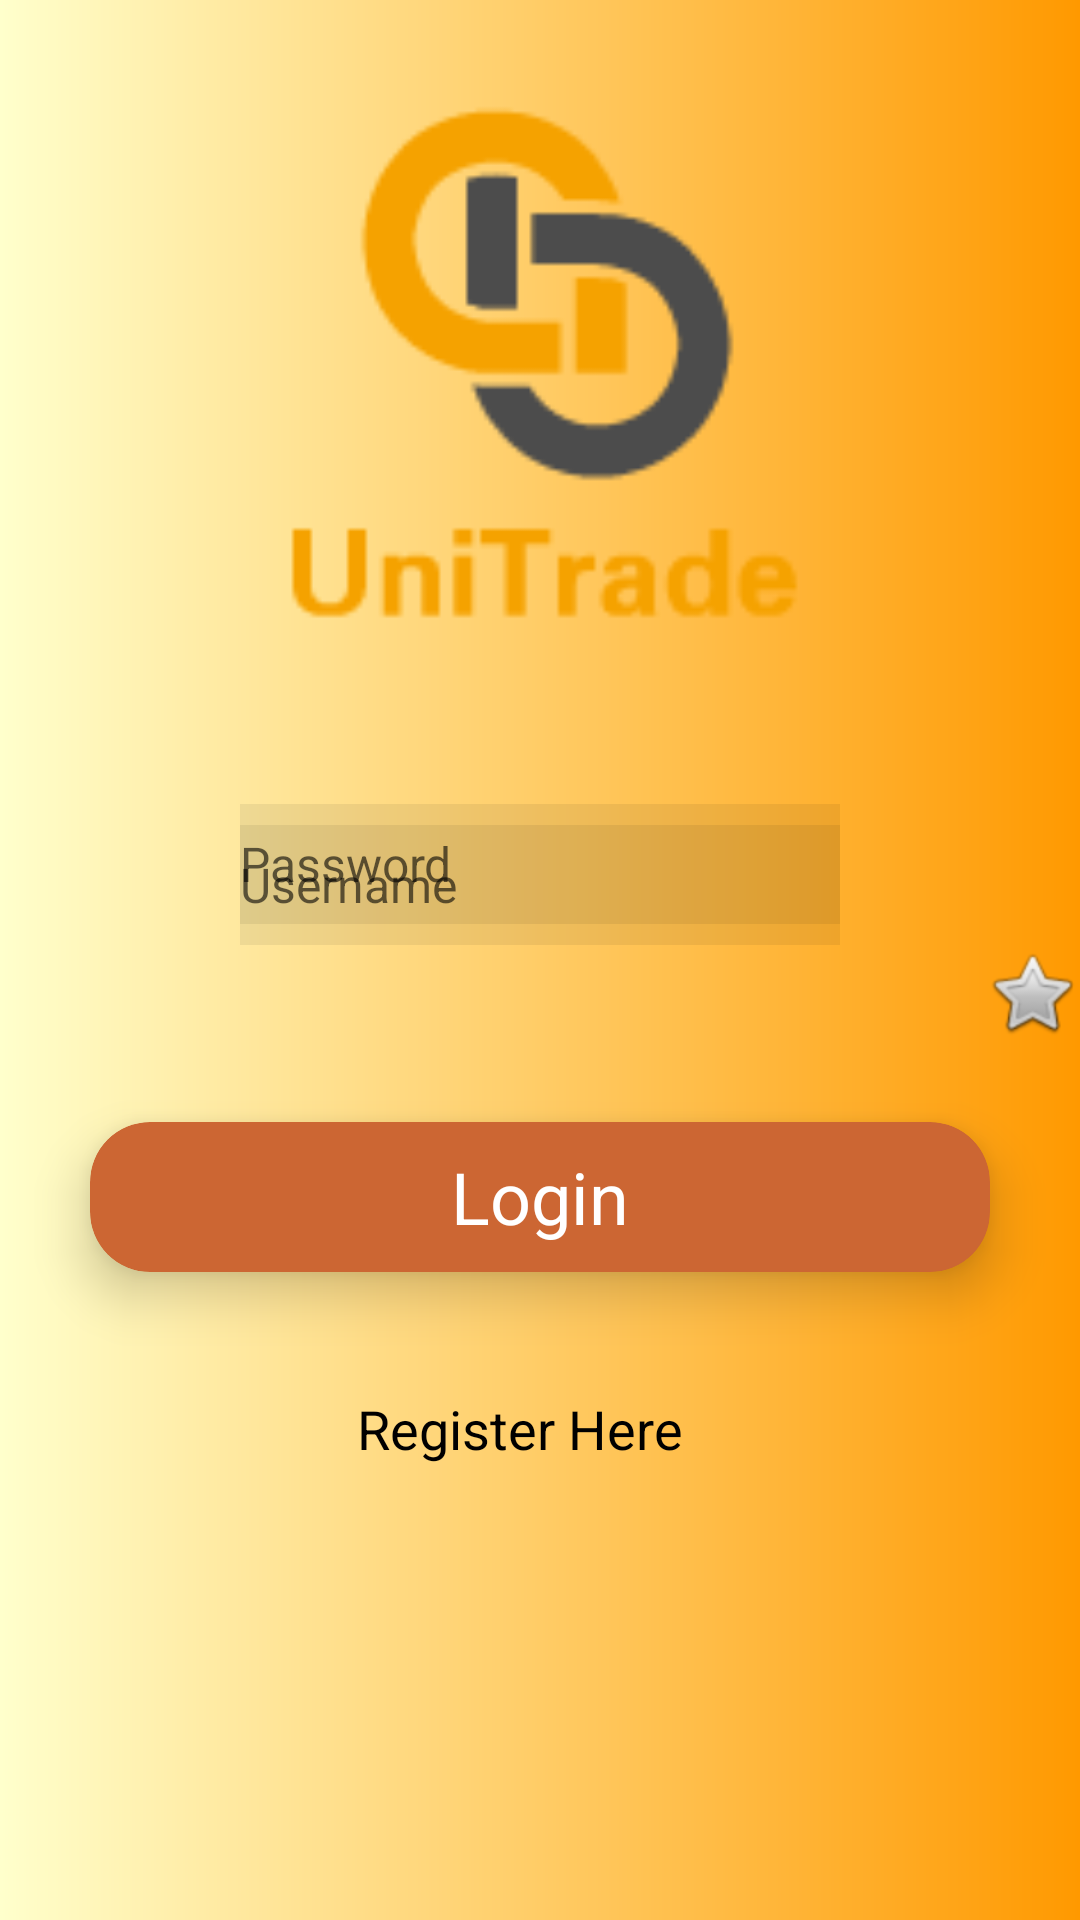

Named icons in this screenshot (1080×1920) and their centers, (x,y):
star: (1033,994)
